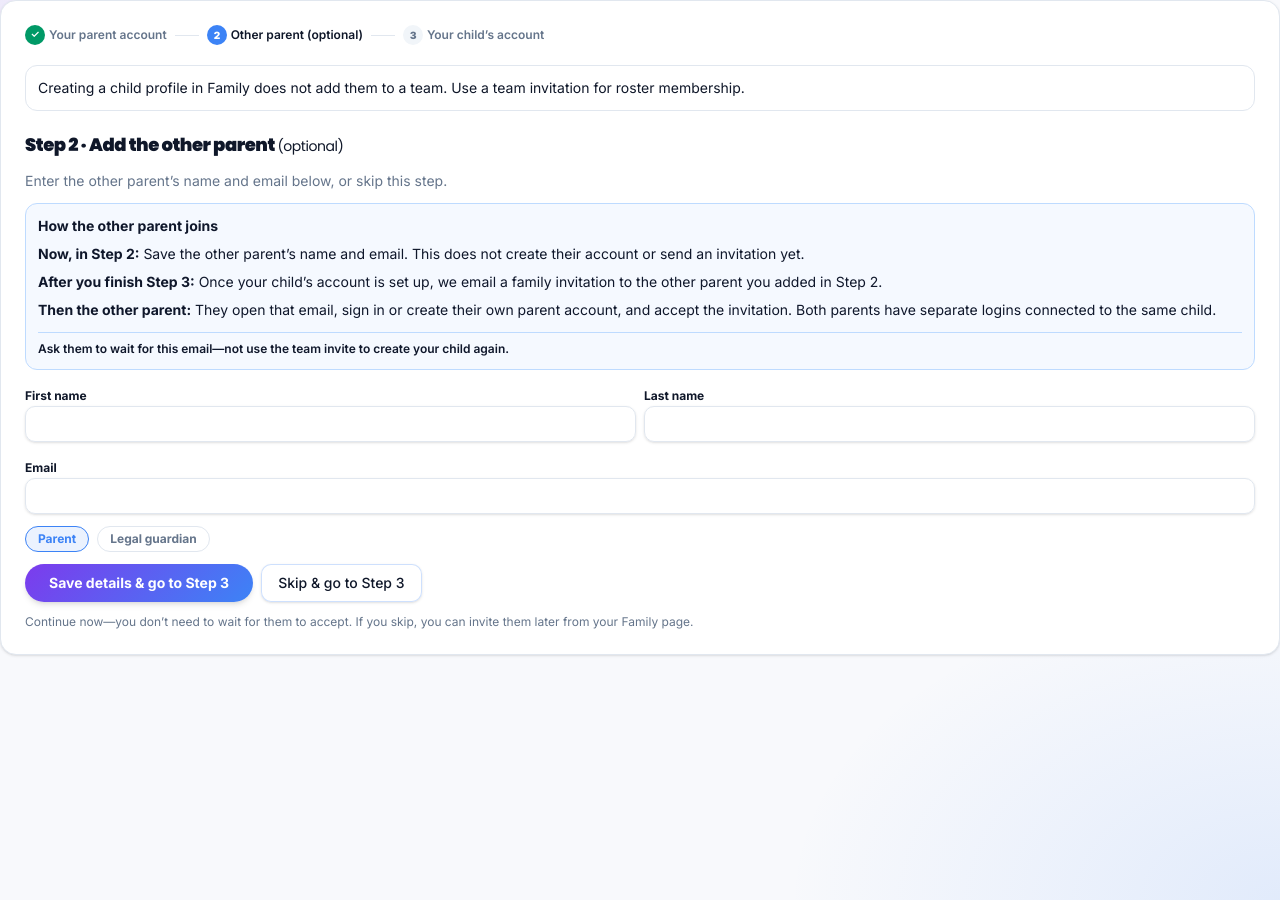
Scenario: FamilySetup › keeps standalone Family profile creation separate from roster enrollment
Expected: the text with test id "family-profile-only" shows "does not add them to a team", x1=38 y1=79 x2=745 y2=96
Click the button with test id "btn-coparent-skip": x=341, y=583 x1=261 y1=564 x2=422 y2=602
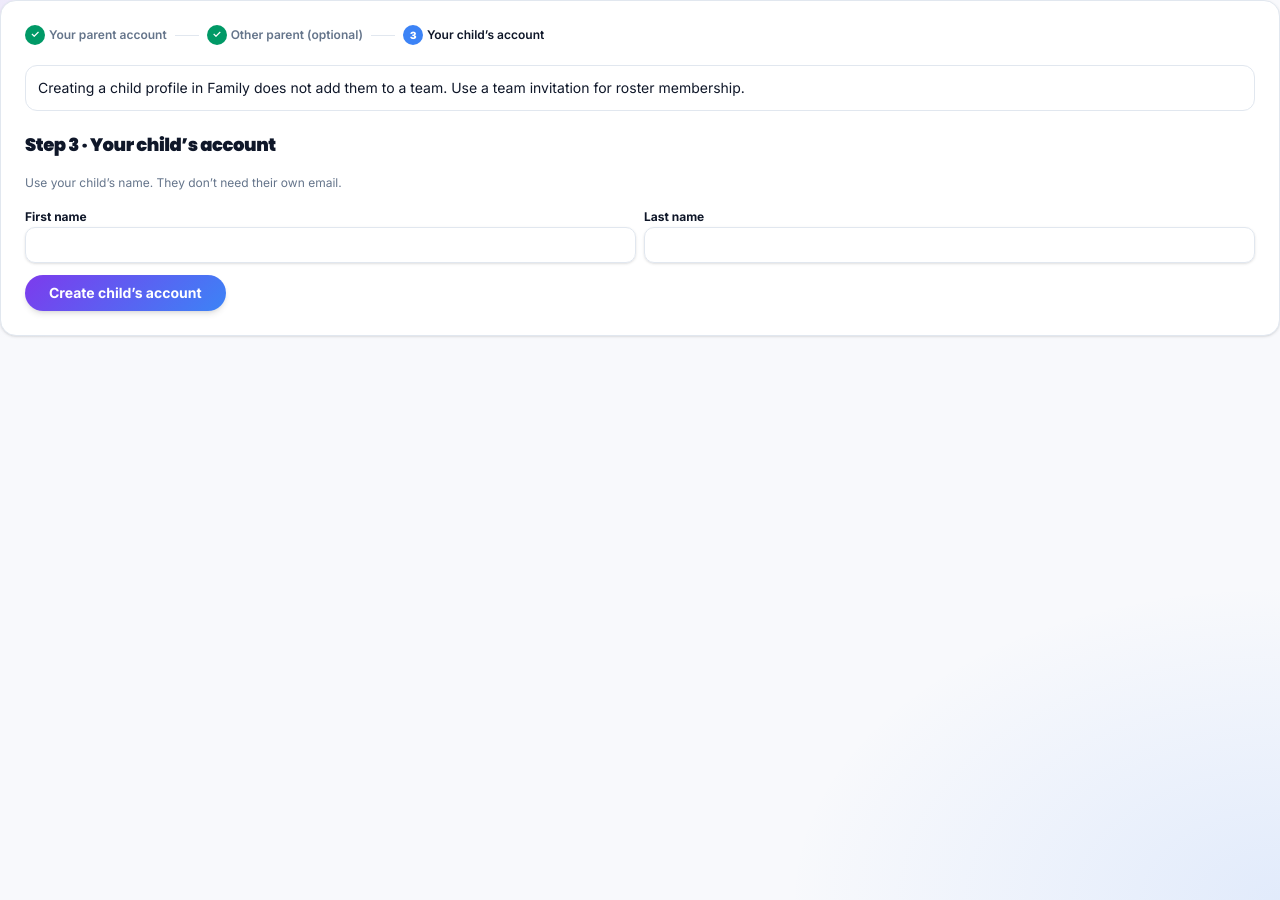
Now the field with test id "input-child-first" is shown
In the field with test id "input-child-first": x=330, y=245 x1=25 y1=227 x2=636 y2=263, type "Ava"
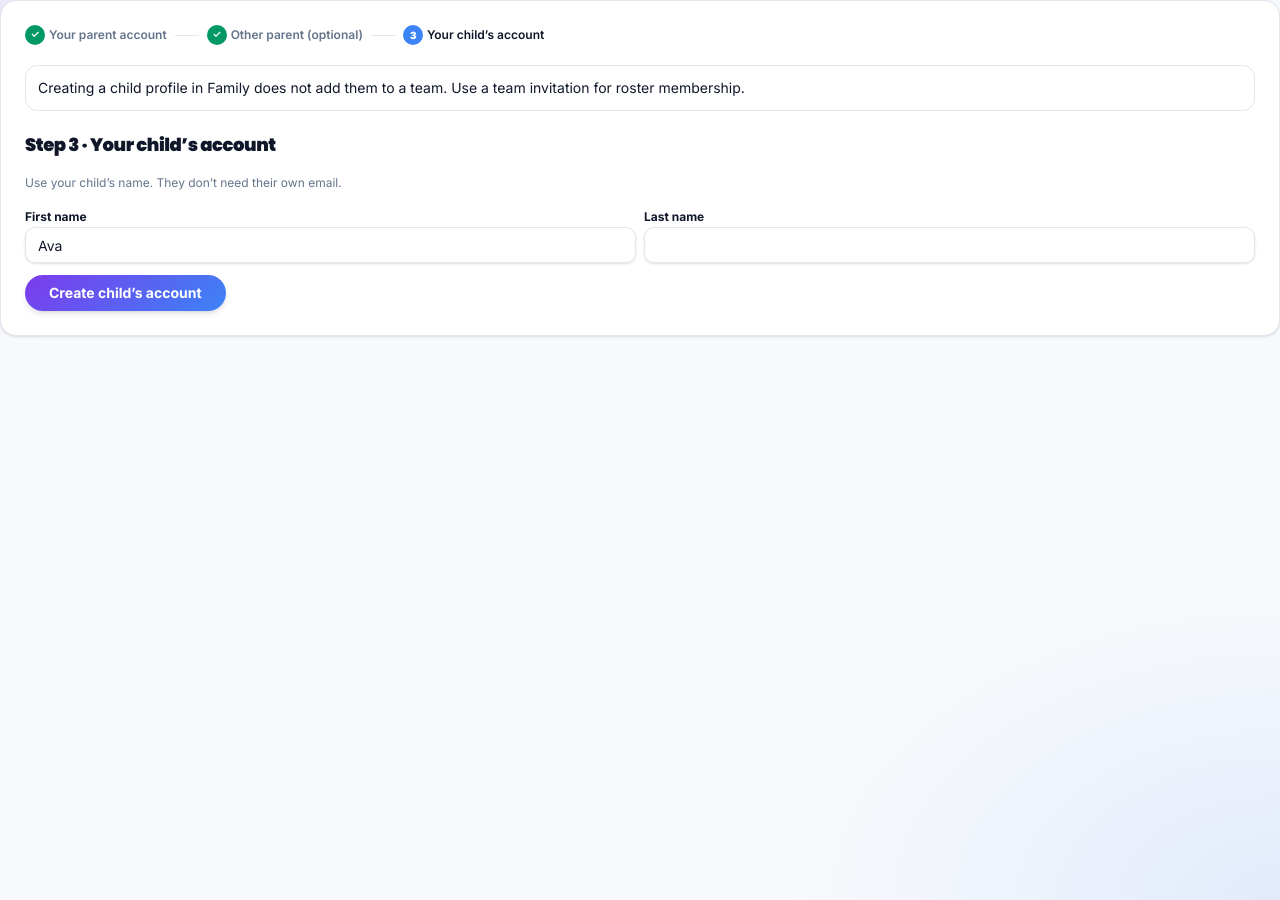
In the field with test id "input-child-last": x=950, y=245 x1=644 y1=227 x2=1255 y2=263, type "Lee"
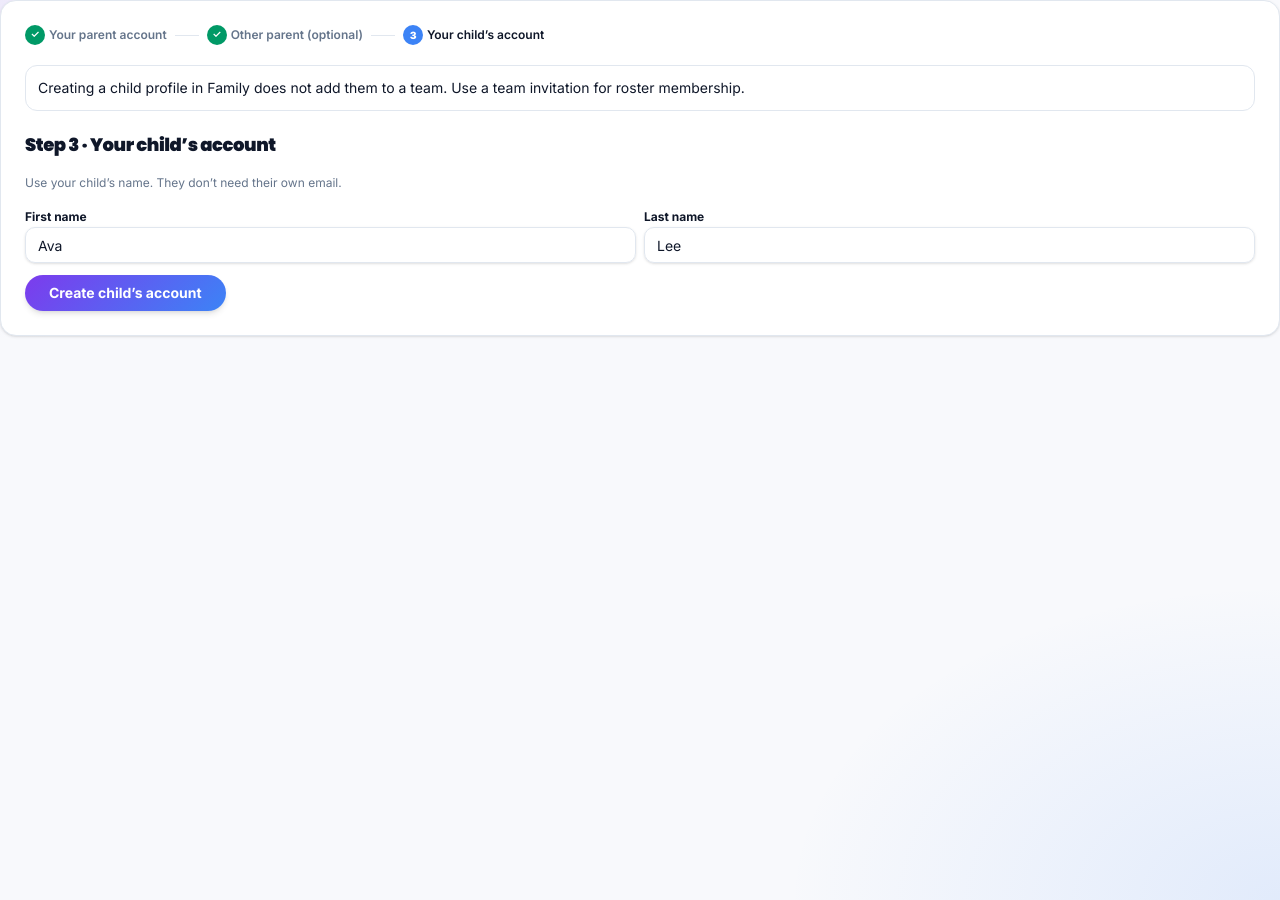
Click the button with test id "btn-add-child": x=125, y=293 x1=25 y1=275 x2=226 y2=311
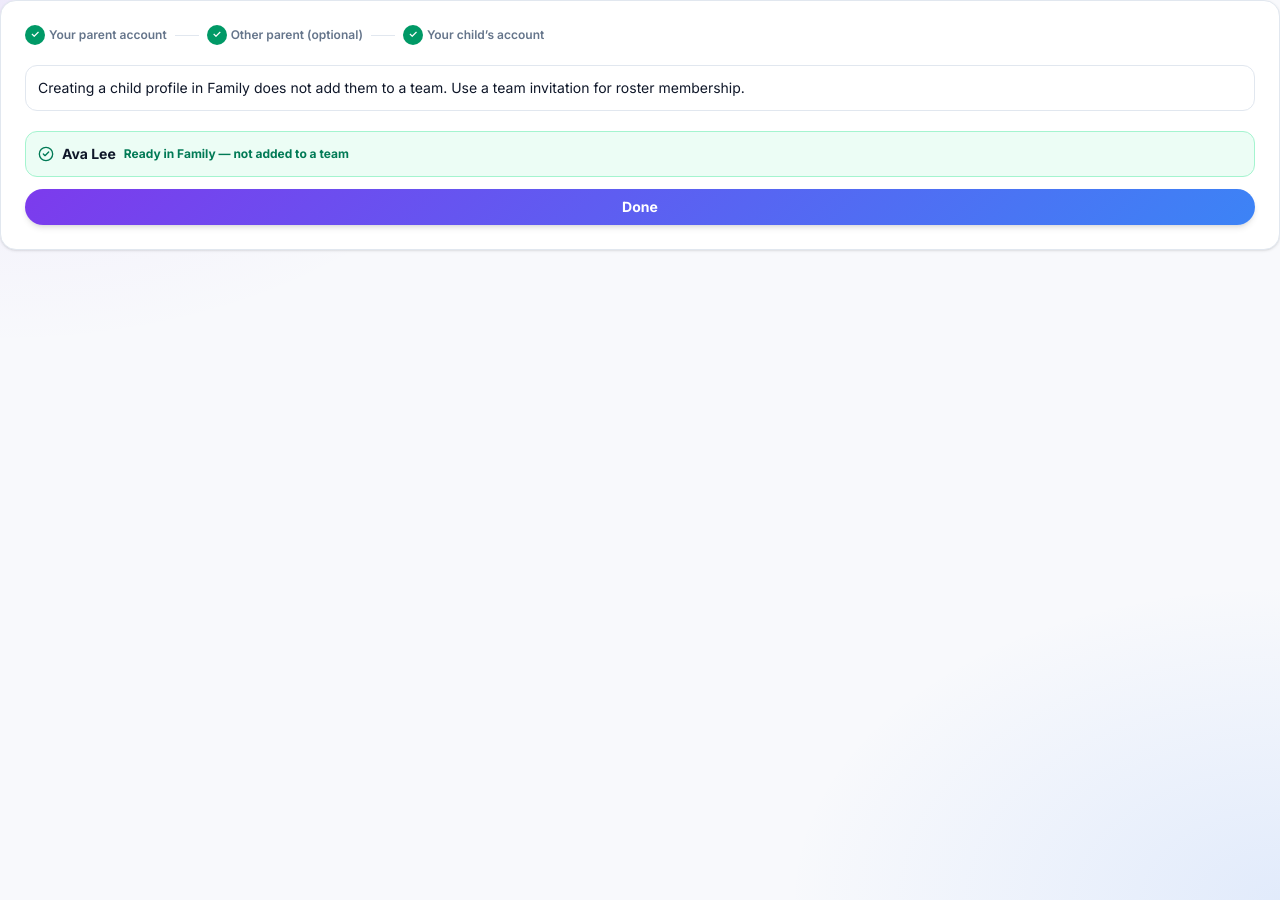
Now the element with test id "row-added-child" shows "Ready in Family — not added to a team", box x1=124 y1=146 x2=349 y2=161
